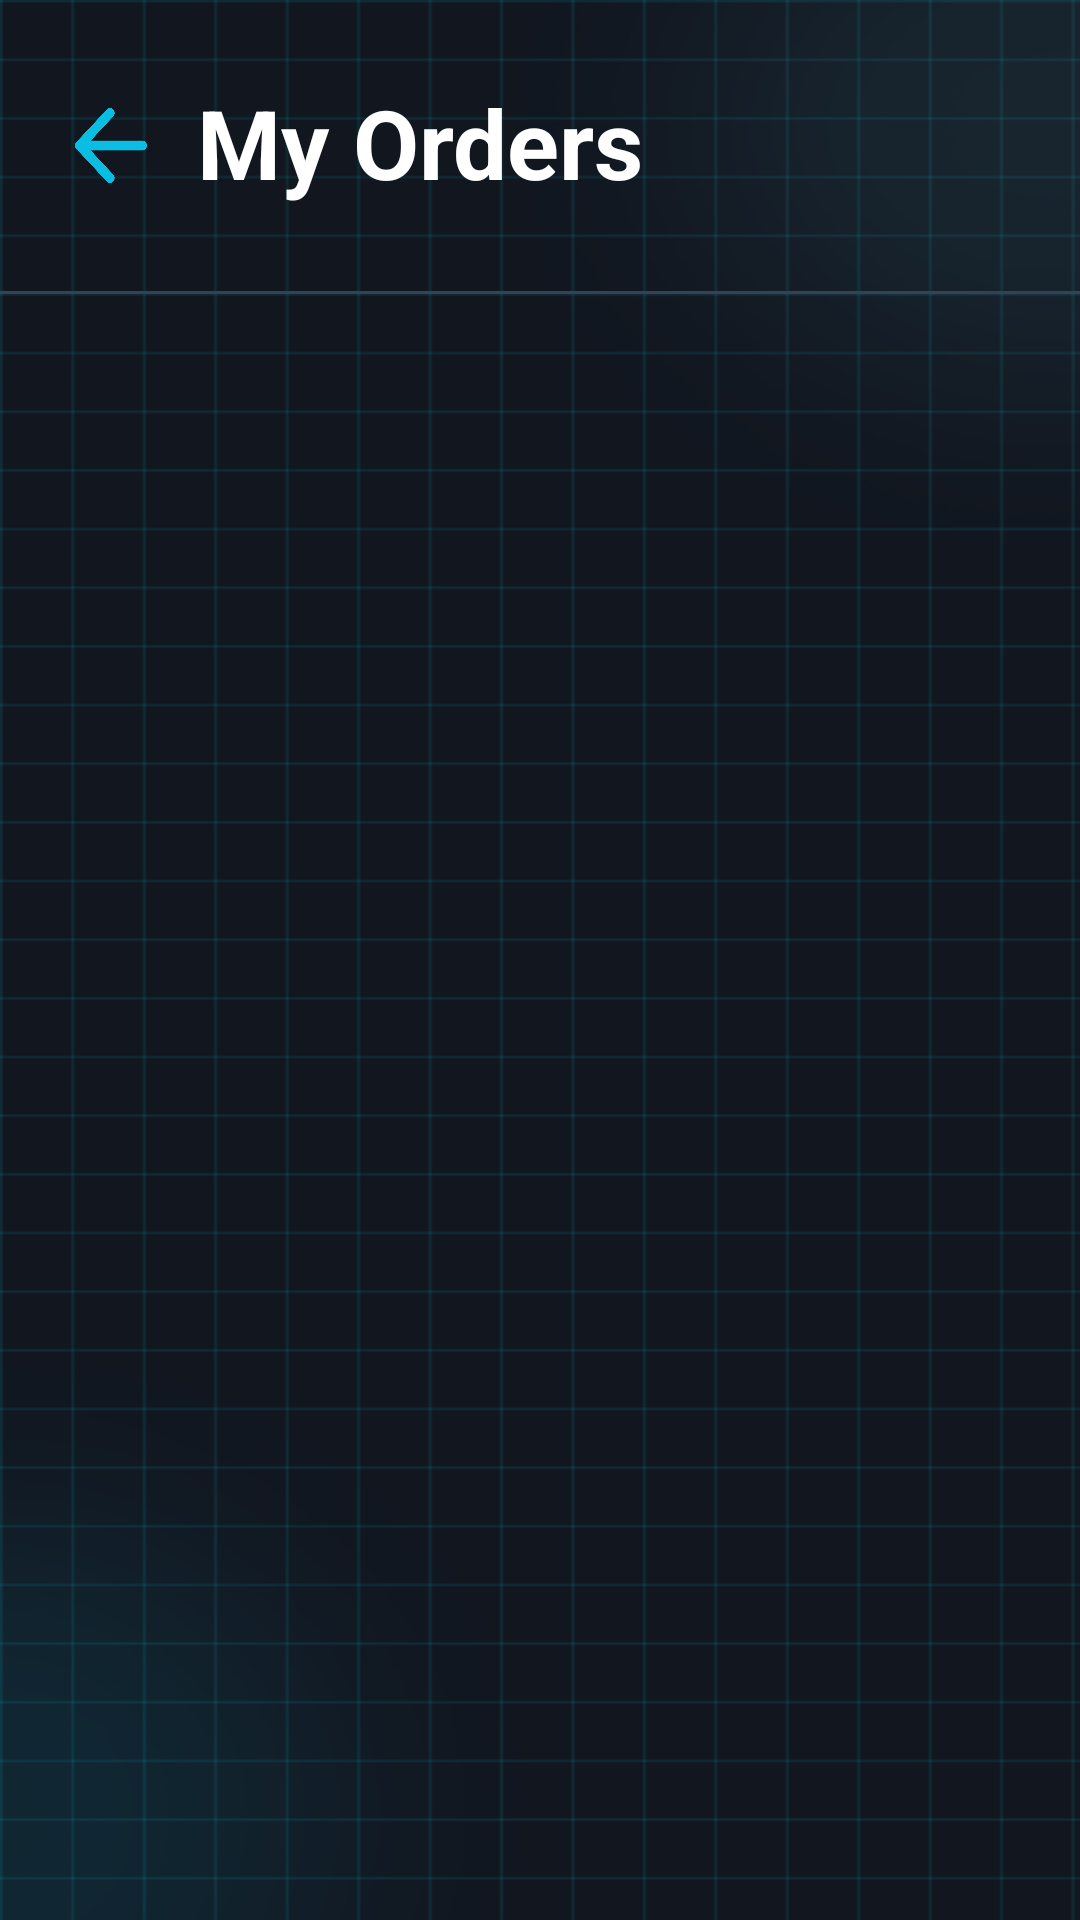

Icon click points for this 1080px×1920px phone screenshot, format point (x, y):
muitentrai: point (111, 145)
